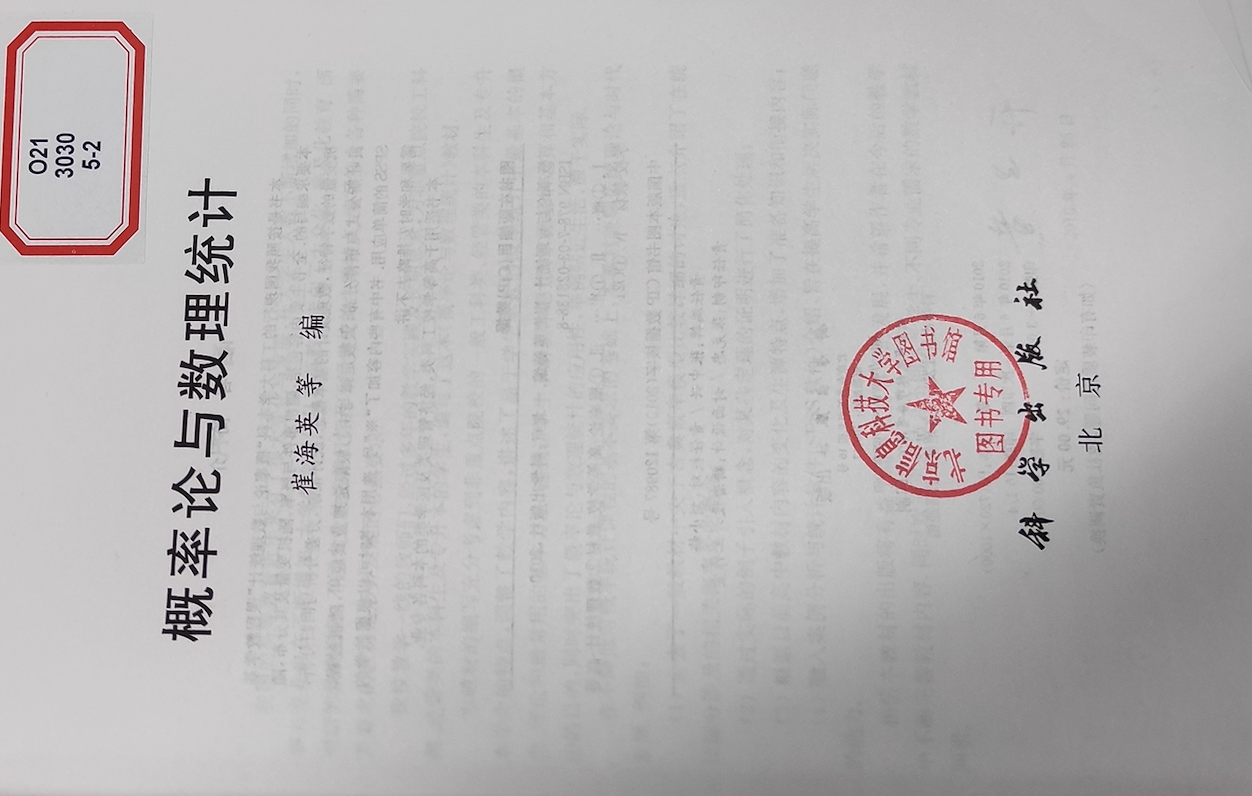Text_area: (840, 244, 1112, 598), (171, 155, 340, 684), (9, 9, 152, 273)
